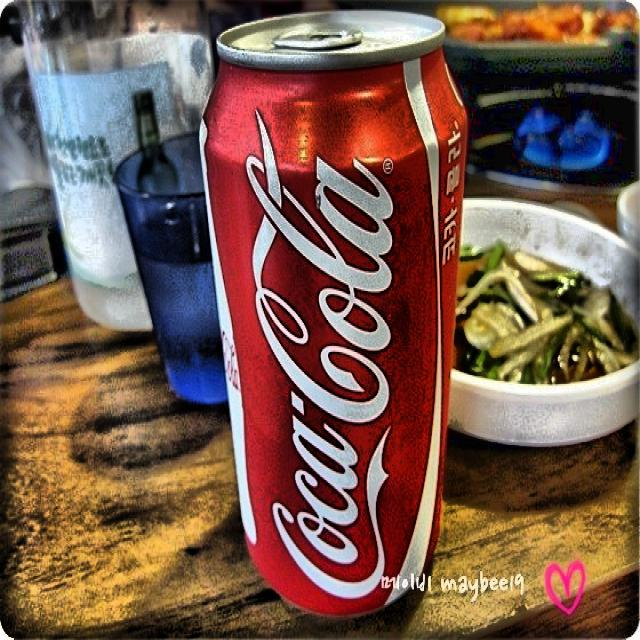cocacola: (203, 30, 443, 560)
